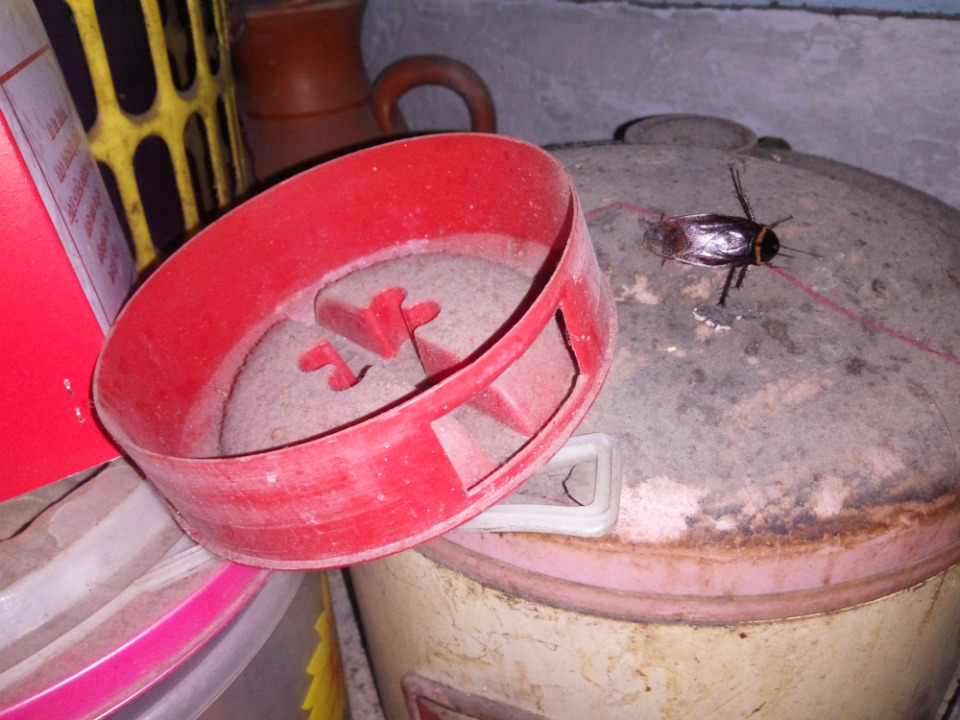cockroach: (605, 169, 836, 327)
